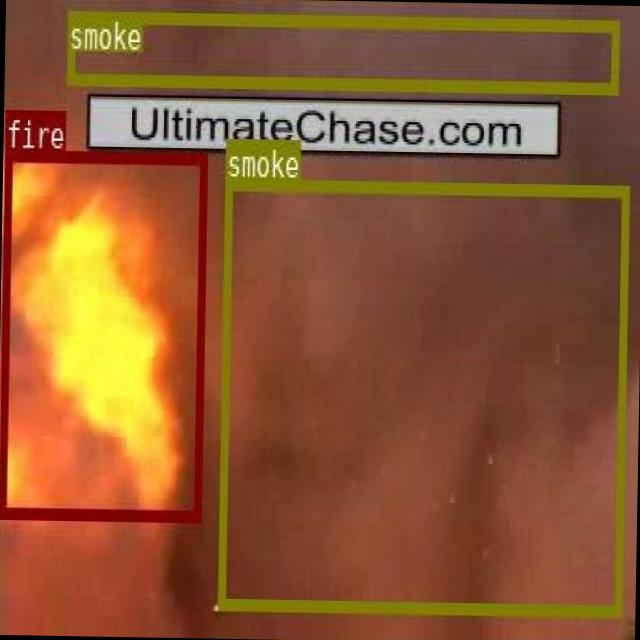fire: (0, 149, 204, 518)
smoke: (217, 177, 627, 614), (66, 8, 617, 92)
